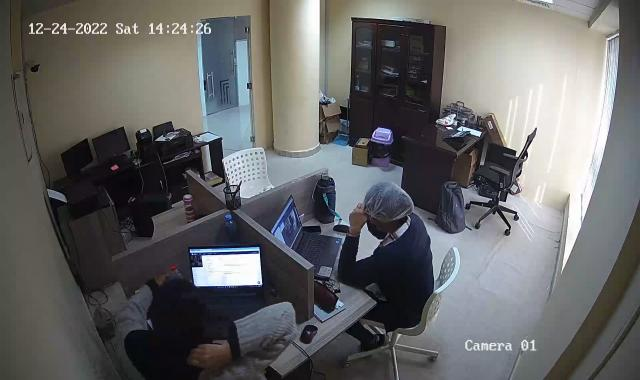hairnet: (362, 182, 418, 231)
no_hairnet: (147, 277, 208, 351)
